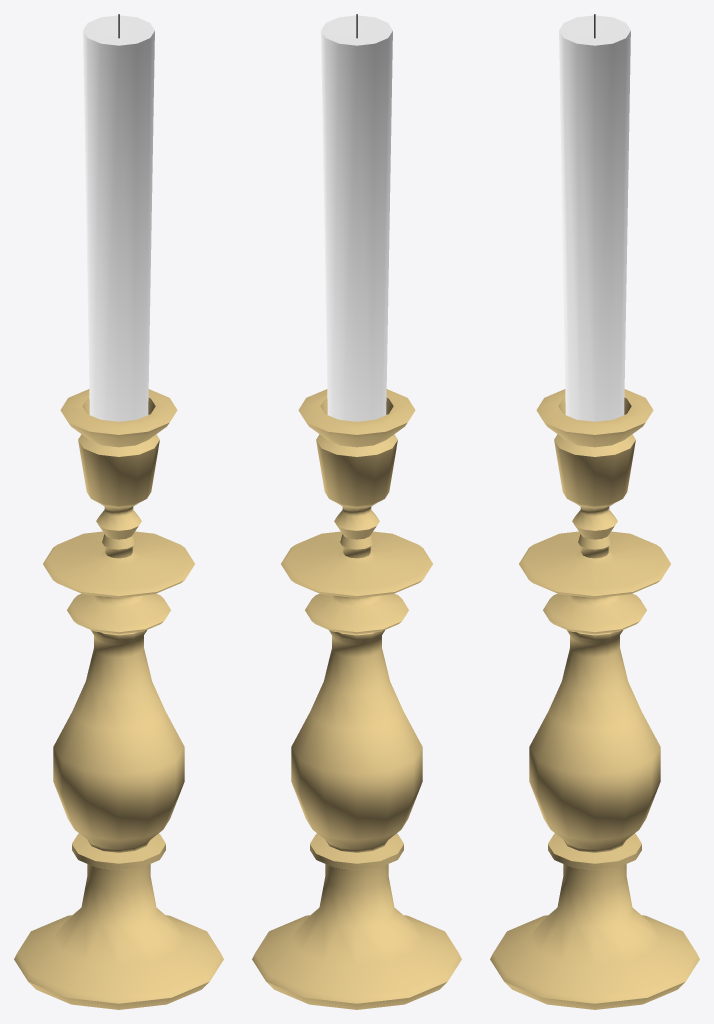
The model's file is CandleDetailed.fbx.
The picture shows the model from 3 angles, left to right: view 1: azimuth 30°, elevation 25°; view 2: azimuth 150°, elevation 25°; view 3: azimuth 270°, elevation 25°; orthographic projection.
Visible parts, largest first — view 1: polySurface120, polySurface100, polySurface99, polySurface107, polySurface97, polySurface98, polySurface111, polySurface117, polySurface114, polySurface105, polySurface110, polySurface109 (+1 smaller); view 2: polySurface120, polySurface100, polySurface99, polySurface107, polySurface97, polySurface98, polySurface111, polySurface117, polySurface114, polySurface105, polySurface110, polySurface109 (+1 smaller); view 3: polySurface120, polySurface100, polySurface99, polySurface107, polySurface97, polySurface98, polySurface111, polySurface117, polySurface114, polySurface105, polySurface110, polySurface109 (+1 smaller).
Boxes of the visible parts, bbox=[...] form: polySurface120: bbox=[83, 31, 154, 421]; polySurface100: bbox=[53, 630, 184, 852]; polySurface99: bbox=[14, 864, 223, 1003]; polySurface107: bbox=[43, 531, 194, 596]; polySurface97: bbox=[78, 440, 159, 530]; polySurface98: bbox=[53, 580, 184, 632]; polySurface111: bbox=[60, 389, 177, 434]; polySurface117: bbox=[83, 15, 154, 45]; polySurface114: bbox=[72, 833, 165, 863]; polySurface105: bbox=[29, 982, 208, 1009]; polySurface110: bbox=[69, 423, 168, 447]; polySurface109: bbox=[78, 434, 159, 456]; polySurface120: bbox=[321, 31, 392, 421]; polySurface100: bbox=[291, 630, 422, 852]; polySurface99: bbox=[252, 864, 461, 1003]; polySurface107: bbox=[281, 531, 432, 596]; polySurface97: bbox=[316, 440, 397, 530]; polySurface98: bbox=[292, 580, 421, 632]; polySurface111: bbox=[298, 389, 415, 434]; polySurface117: bbox=[321, 15, 392, 45]; polySurface114: bbox=[310, 833, 403, 863]; polySurface105: bbox=[267, 982, 446, 1009]; polySurface110: bbox=[307, 423, 406, 447]; polySurface109: bbox=[316, 434, 397, 456]; polySurface120: bbox=[559, 31, 630, 421]; polySurface100: bbox=[529, 630, 660, 852]; polySurface99: bbox=[490, 864, 699, 1003]; polySurface107: bbox=[519, 531, 670, 596]; polySurface97: bbox=[554, 440, 635, 530]; polySurface98: bbox=[529, 580, 660, 632]; polySurface111: bbox=[536, 389, 653, 434]; polySurface117: bbox=[559, 15, 630, 45]; polySurface114: bbox=[548, 833, 641, 863]; polySurface105: bbox=[505, 982, 684, 1009]; polySurface110: bbox=[545, 423, 644, 447]; polySurface109: bbox=[554, 434, 635, 456].
Size of the model in its own units: 0.3422 by 1.72 by 0.3422.
